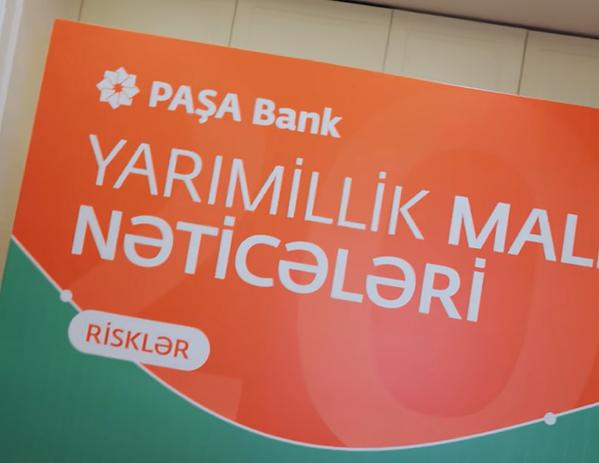Pasha Bank: (95, 66, 142, 110)
